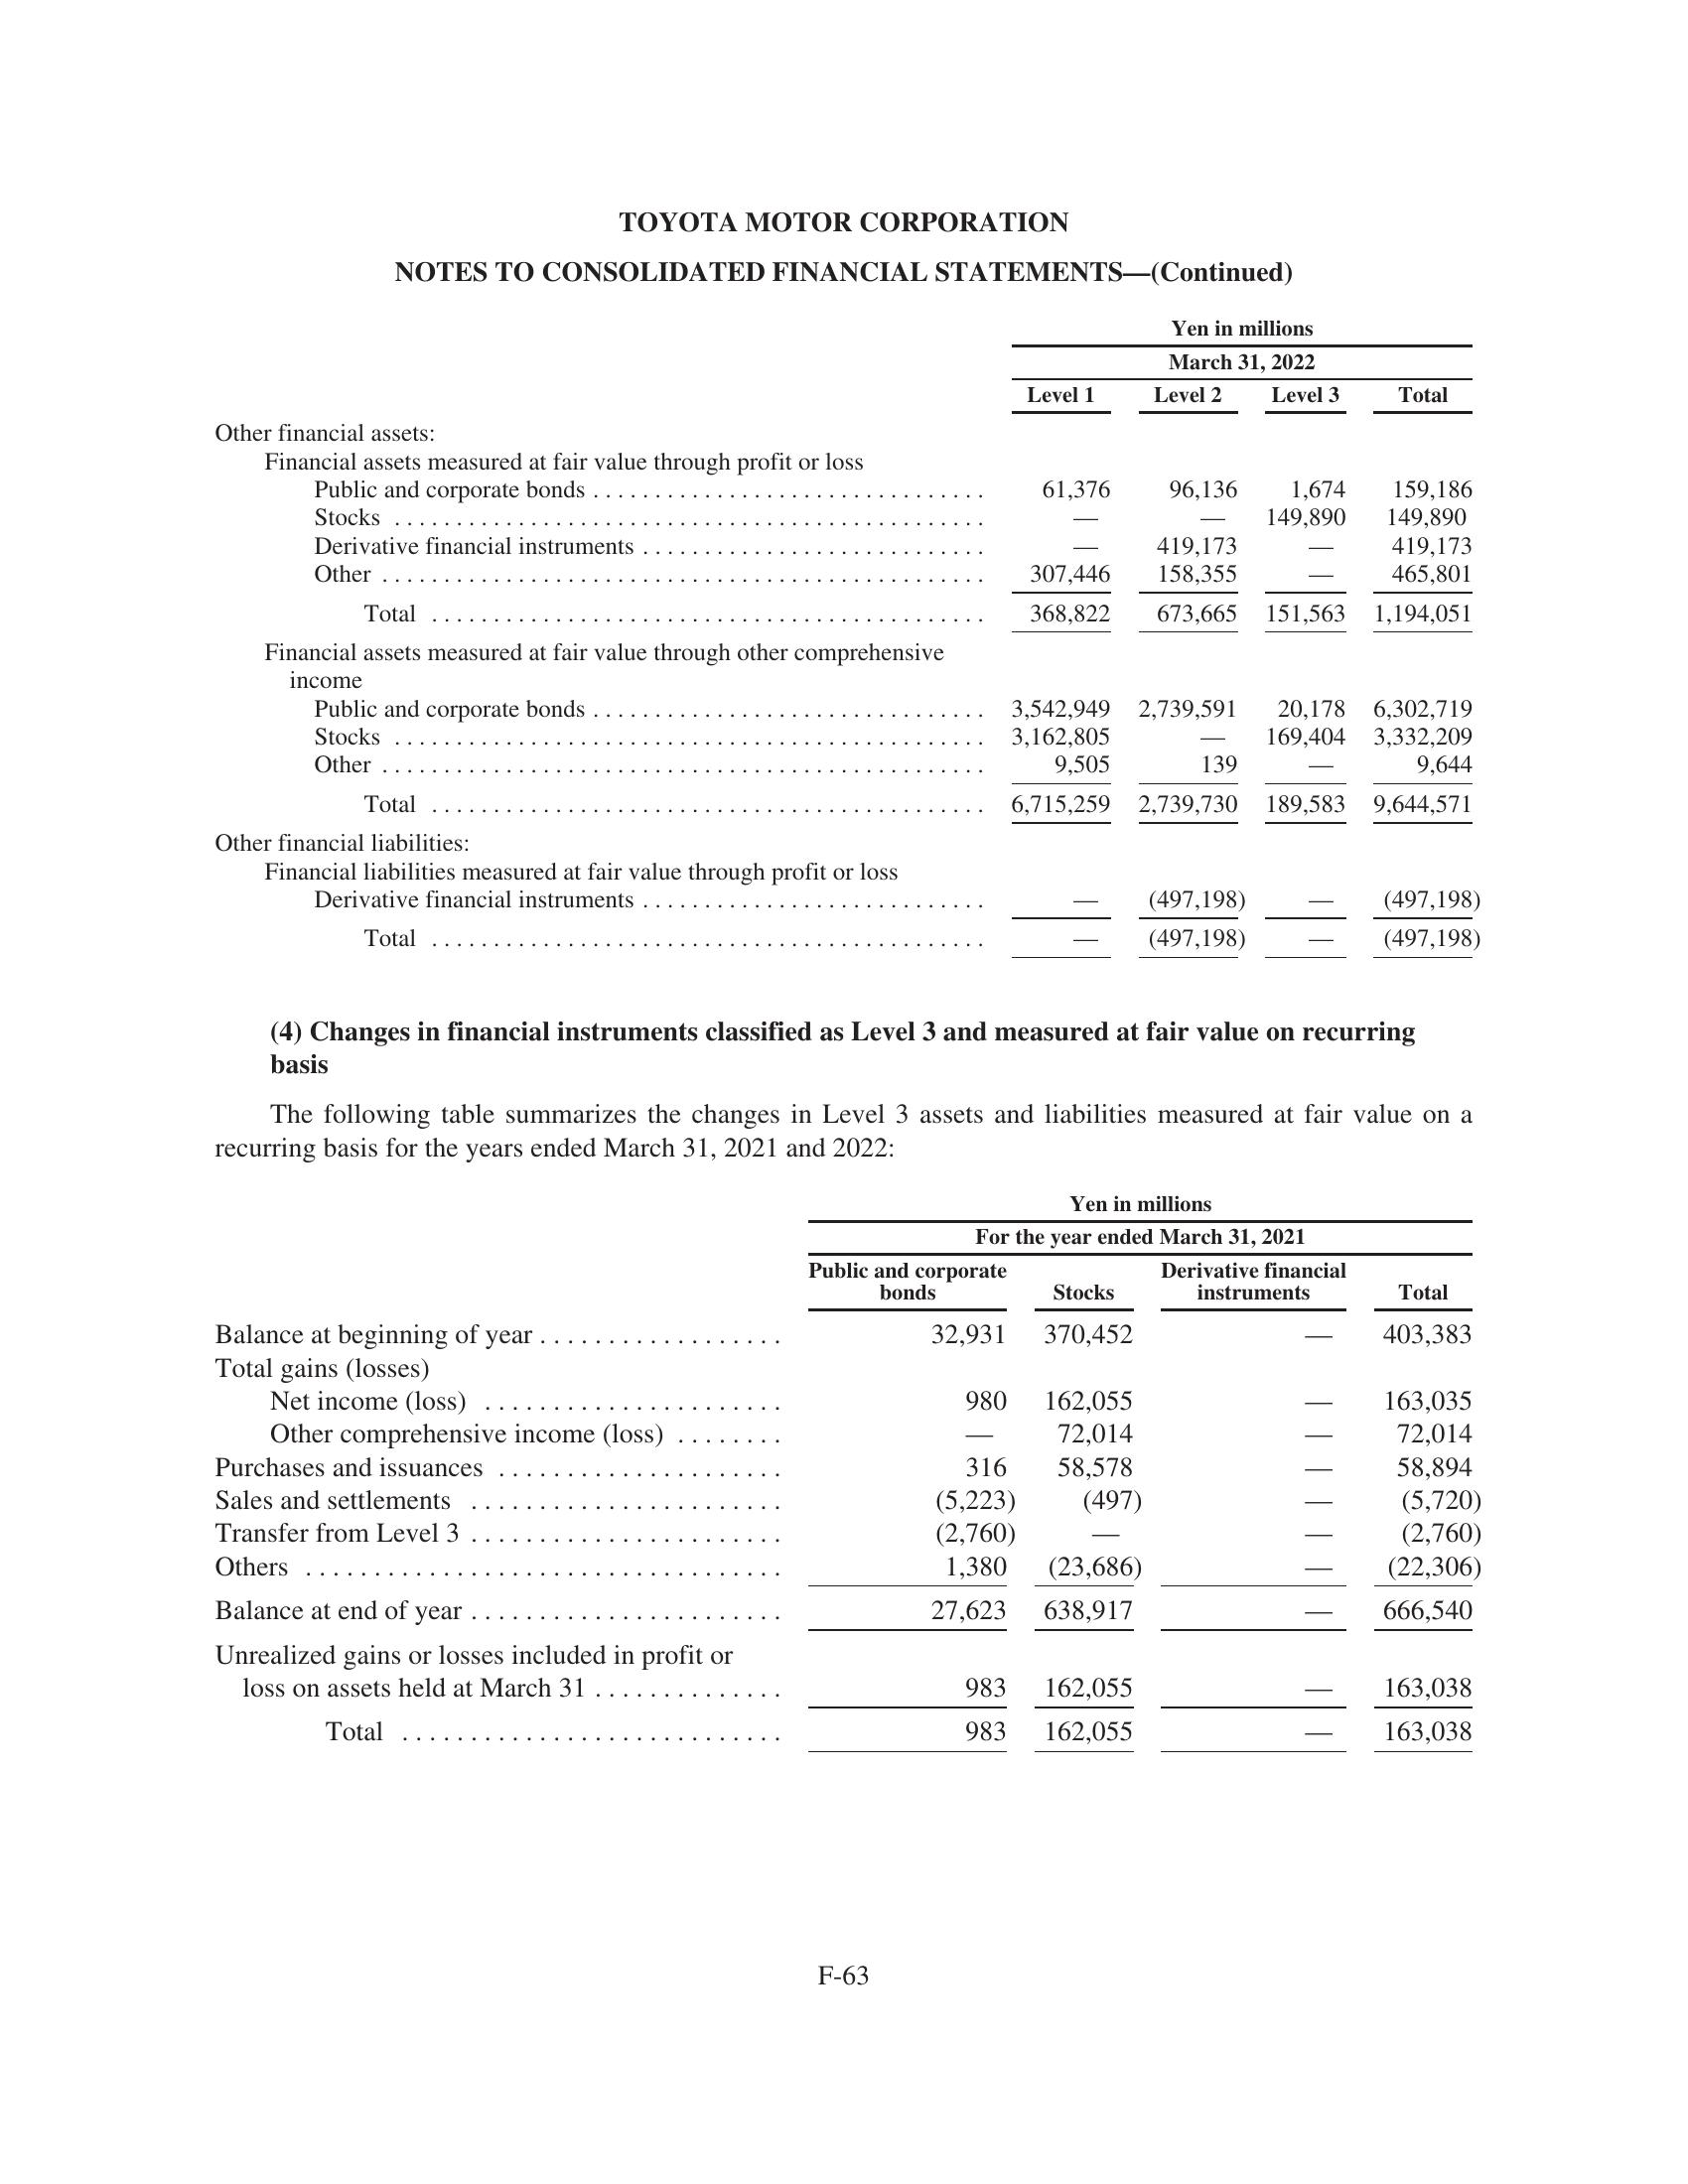Footer: (0, 1954, 1688, 2184)
Header: (0, 0, 1688, 183)
Table: (151, 298, 1521, 966), (179, 1166, 1518, 1789)
